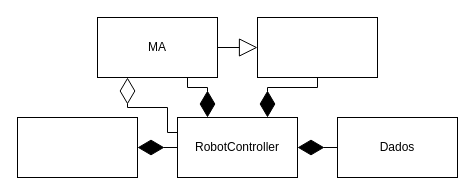
This 475x195 diagram has some shape labels left out. Here are the shapes that lost their labels. From the top down, the box of each, then its label:
(256, 16, 378, 78): Thread
(16, 116, 138, 178): GUI
